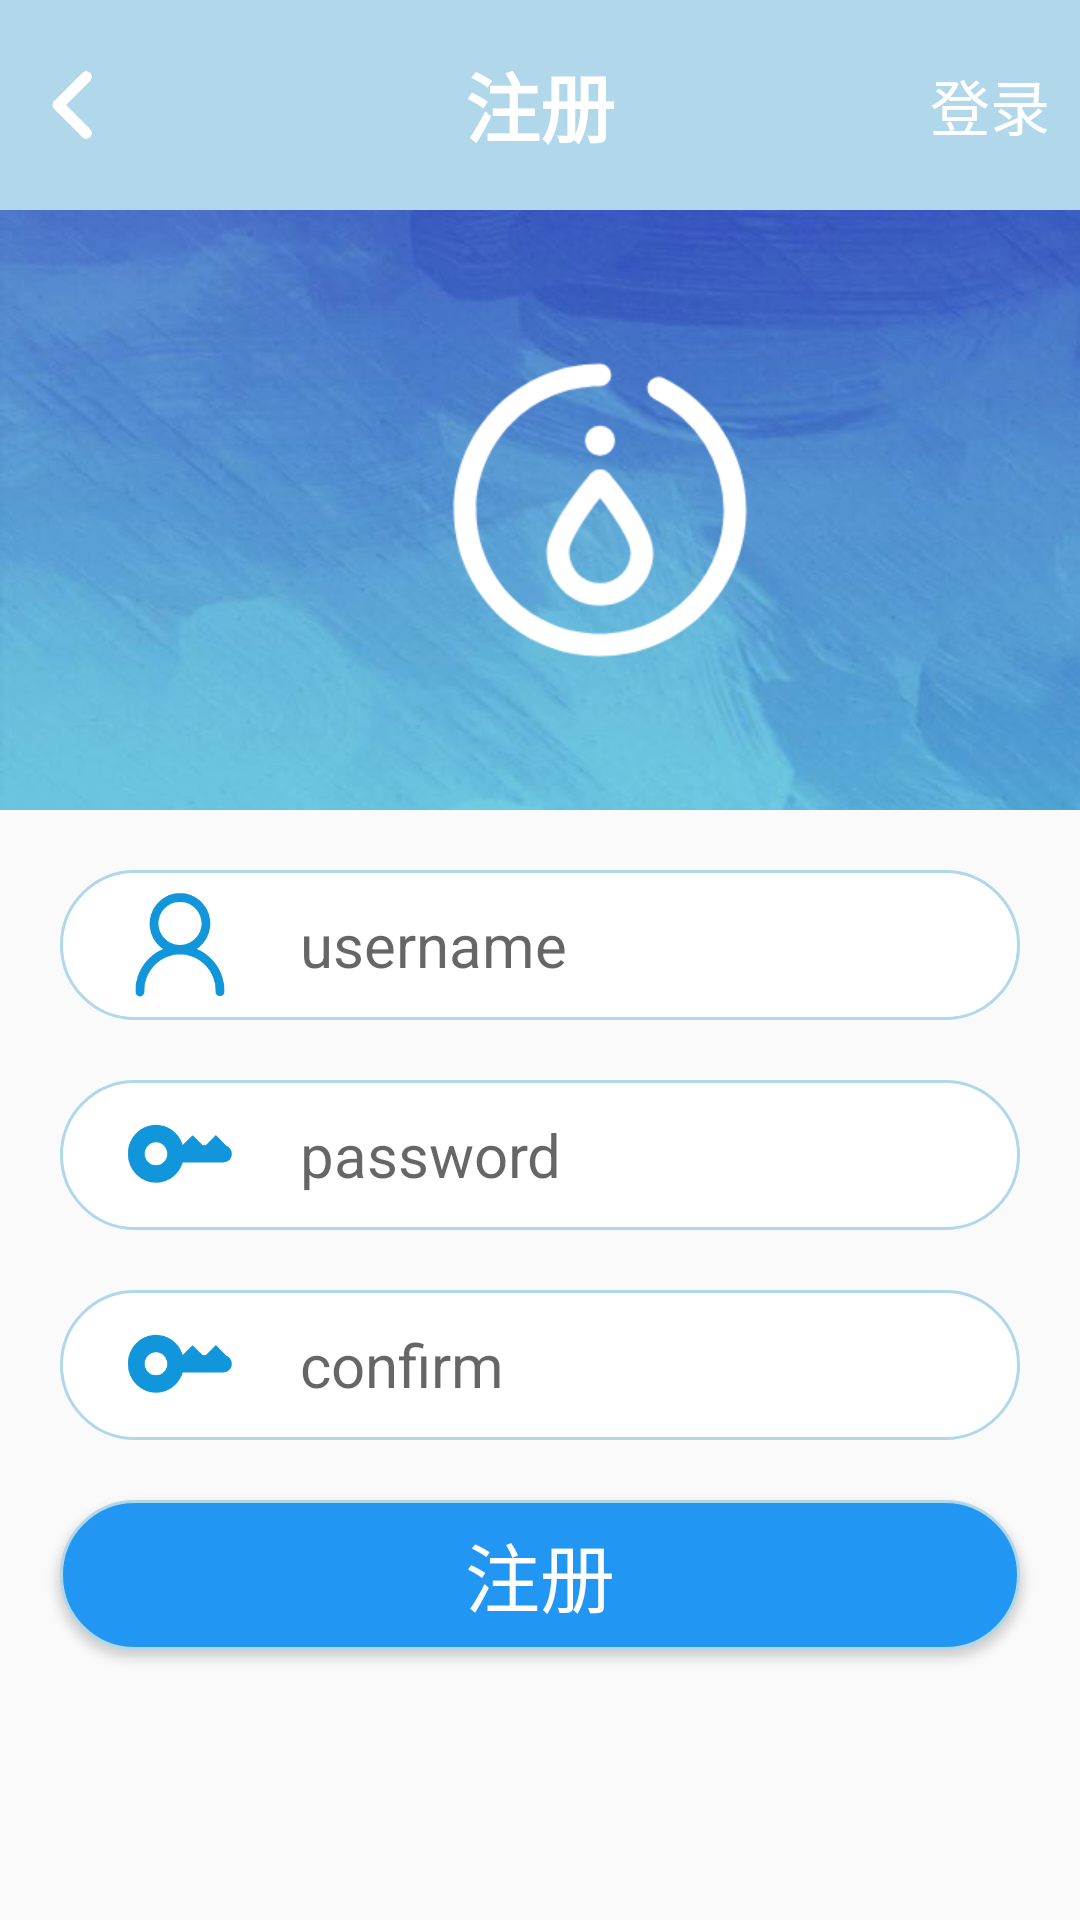

Screen size 1080 x 1920. Icon name, then its box in pixels as bbox=(x1, y1, x2, y2):
back: bbox=(52, 71, 92, 139)
